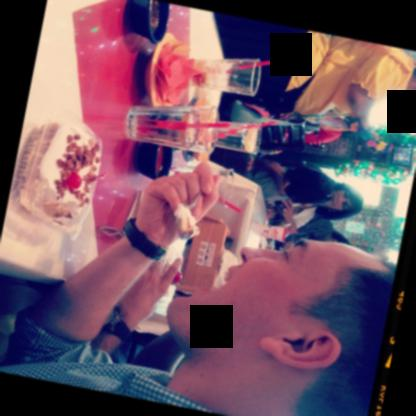handbag: (281, 165, 330, 204)
